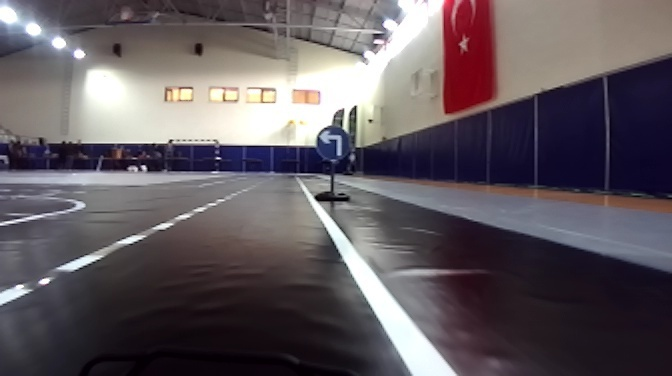sola_donus: (315, 124, 353, 156)
